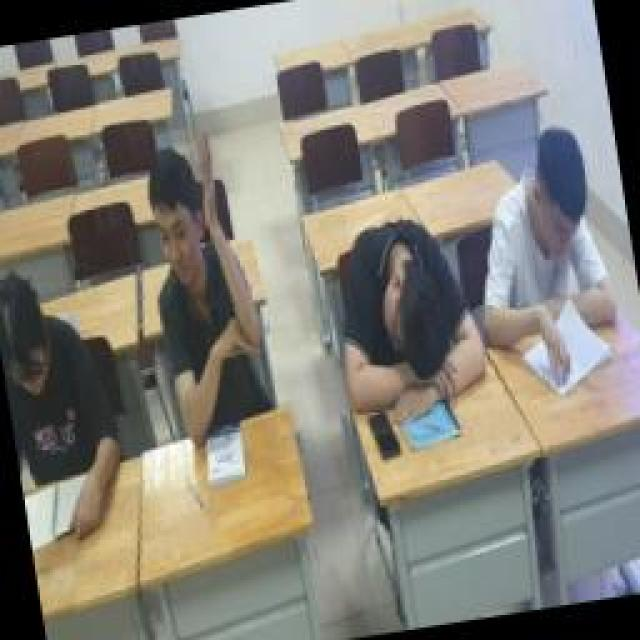sleep: (323, 212, 495, 438)
study: (125, 143, 295, 455), (460, 125, 628, 393), (0, 263, 130, 545)
